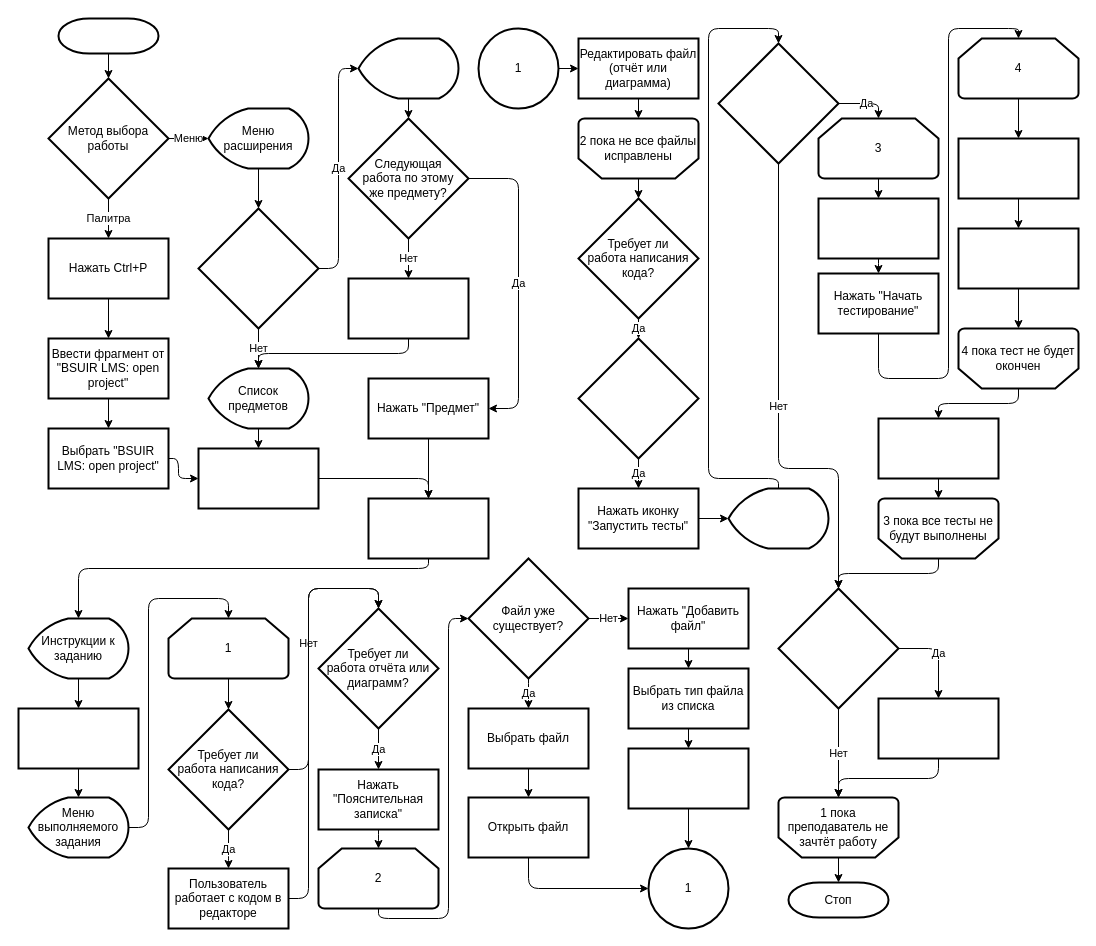
Some shapes in this 1096 by 946 pixel diagram are drawn without their labels. The centre of each missing label's shape, as x and y in pixels:
Выбрать вариант ответа: (1018,168)
Выбрать предмет из списка: (258,478)
Выбрать работу из списка: (428,528)
Выбрать тест из списка: (878,228)
Выполнены ли требования работы?: (838,648)
Есть ли тестирование к этой работе?: (778,103)
Есть ли юнит-тесты к этой работе?: (638,398)
Нажать "Далее": (1018,258)
Нажать "Домой": (408,308)
Нажать "Закончить тест": (938,448)
Нажать "Отправить работу": (938,728)
Нажать "Приступить к работе": (78,738)
Открыта ли сейчас другая работа?: (258,268)
Результаты тестов: (778,518)
Старт: (108,35)
Указать имя файла: (688,778)
Экран задания: (408,68)
